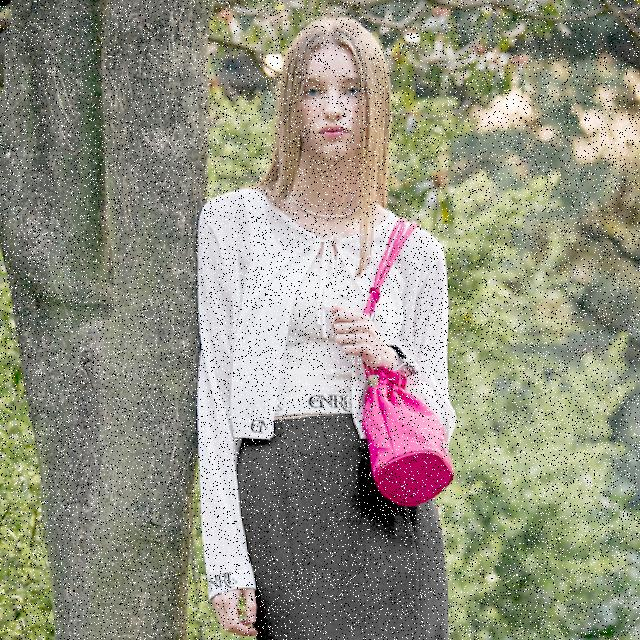dress: (194, 186, 454, 604)
